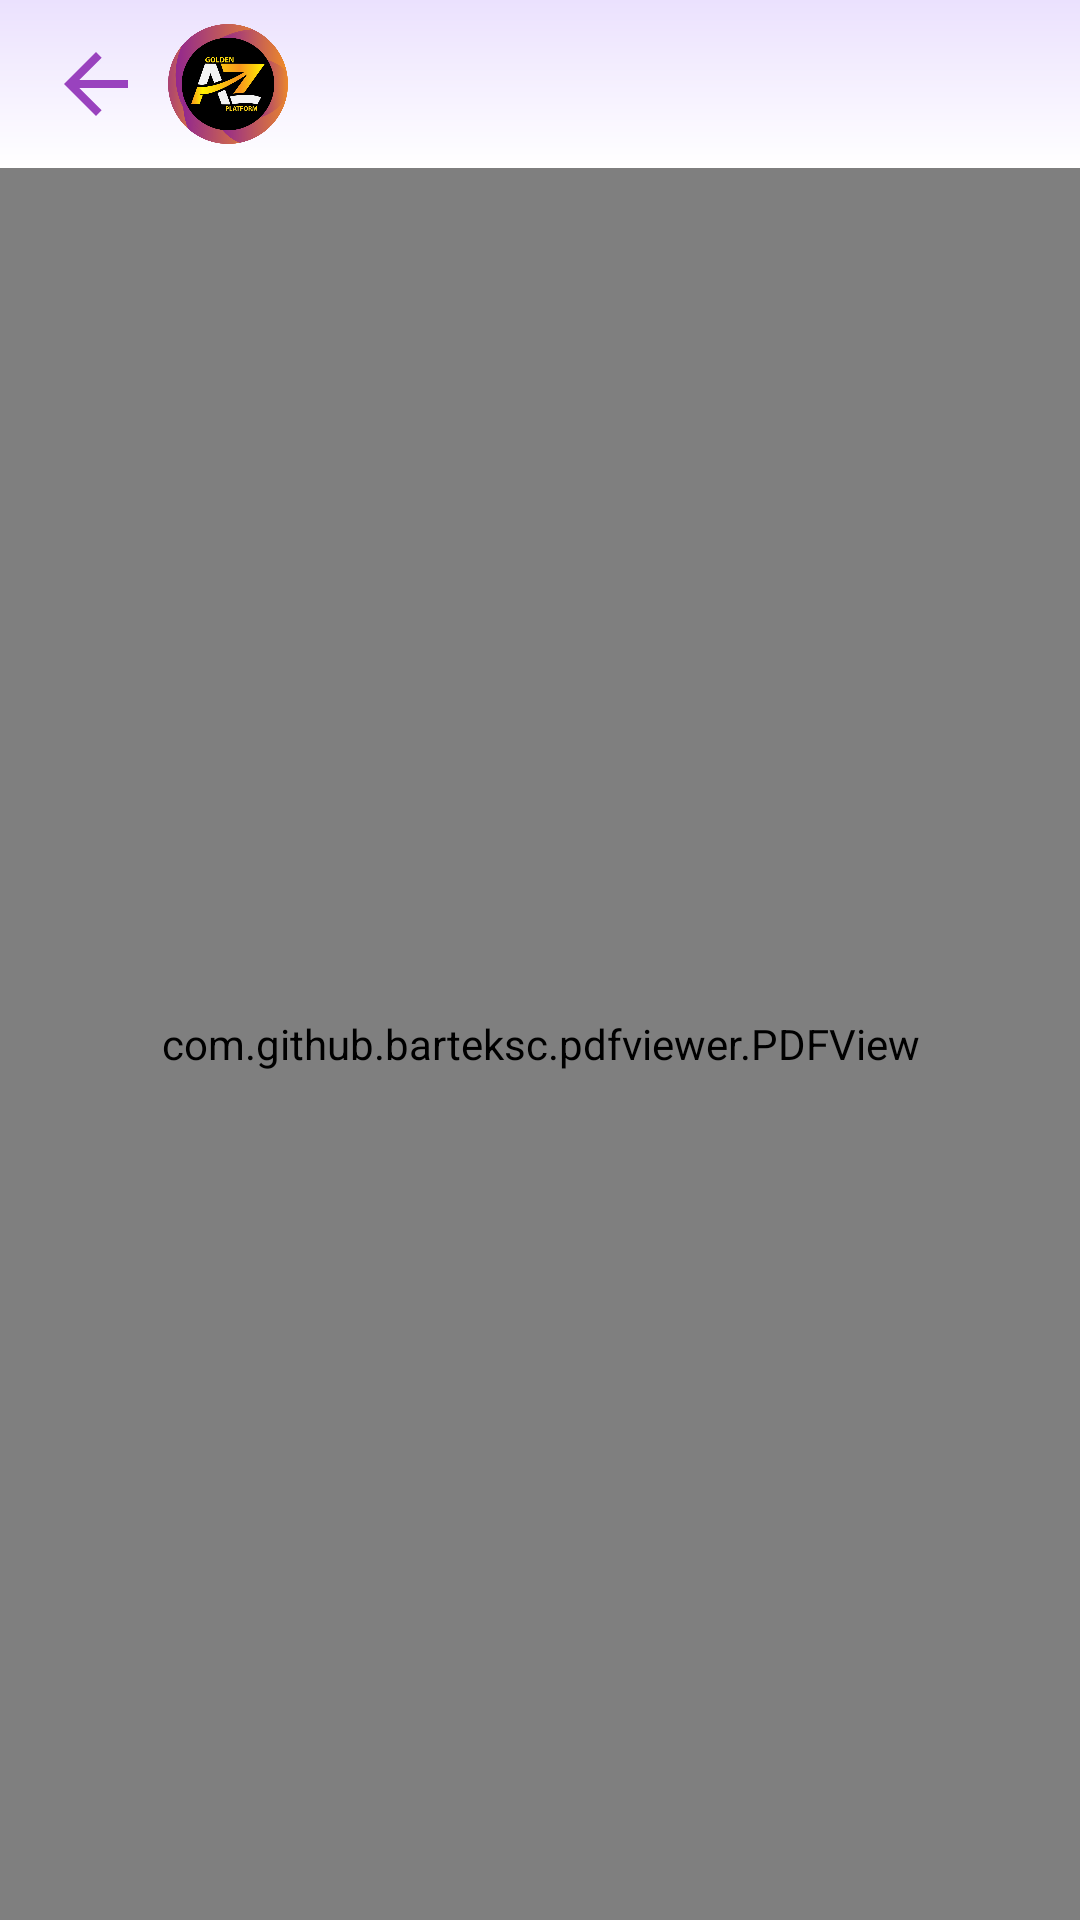

Screen size 1080×1920. Icon name, then its center in pixels as (x,y):
arrow back: (96,84)
